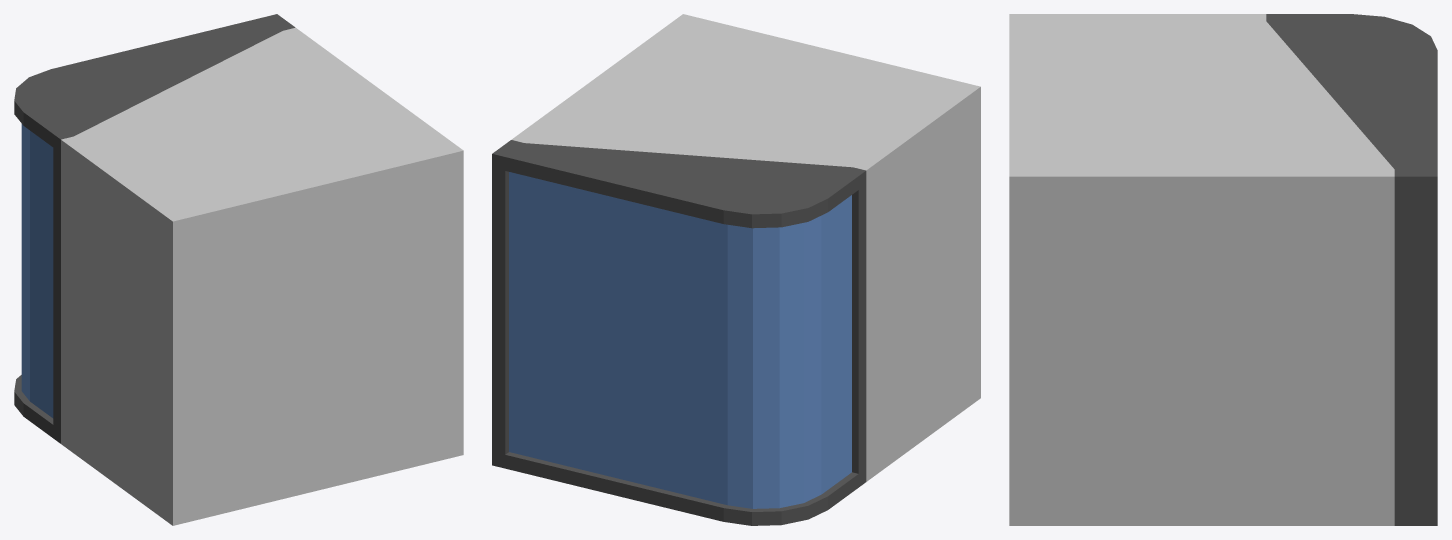
File: container1.fbx
The picture shows the model from 3 angles, left to right: view 1: azimuth 30°, elevation 25°; view 2: azimuth 150°, elevation 25°; view 3: azimuth 270°, elevation 25°; orthographic projection. The views are drawn at different scales.
Visible parts, largest first — view 1: Box, Top; view 2: Top, Box; view 3: Box, Top.
Part boxes in pixels (x1,y1,x2,y2): Box: (61,27,463,525); Top: (14,14,295,443); Top: (492,140,866,525); Box: (511,14,980,481); Box: (1009,14,1394,525); Top: (1266,14,1437,525).
Size of the model in its own units: 0.45 by 0.45 by 0.5.
